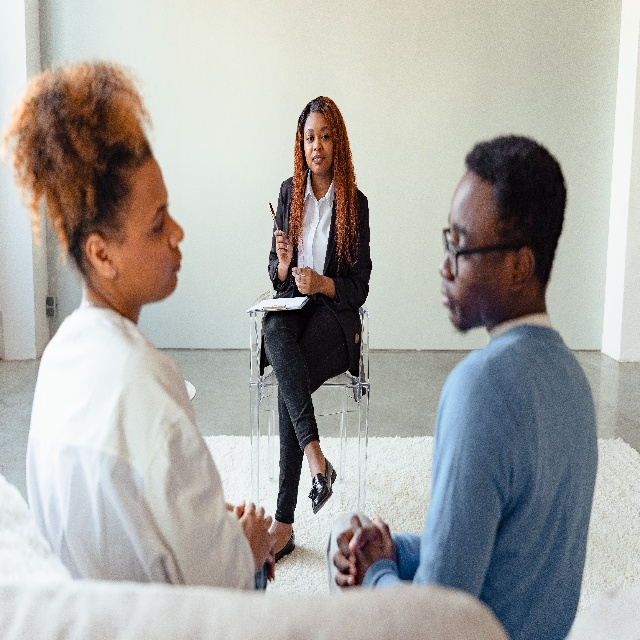Gafas: (441, 226, 527, 280)
Sin_guantes: (346, 510, 397, 582), (332, 519, 382, 588), (239, 499, 277, 573), (291, 263, 319, 294), (274, 228, 293, 269)
